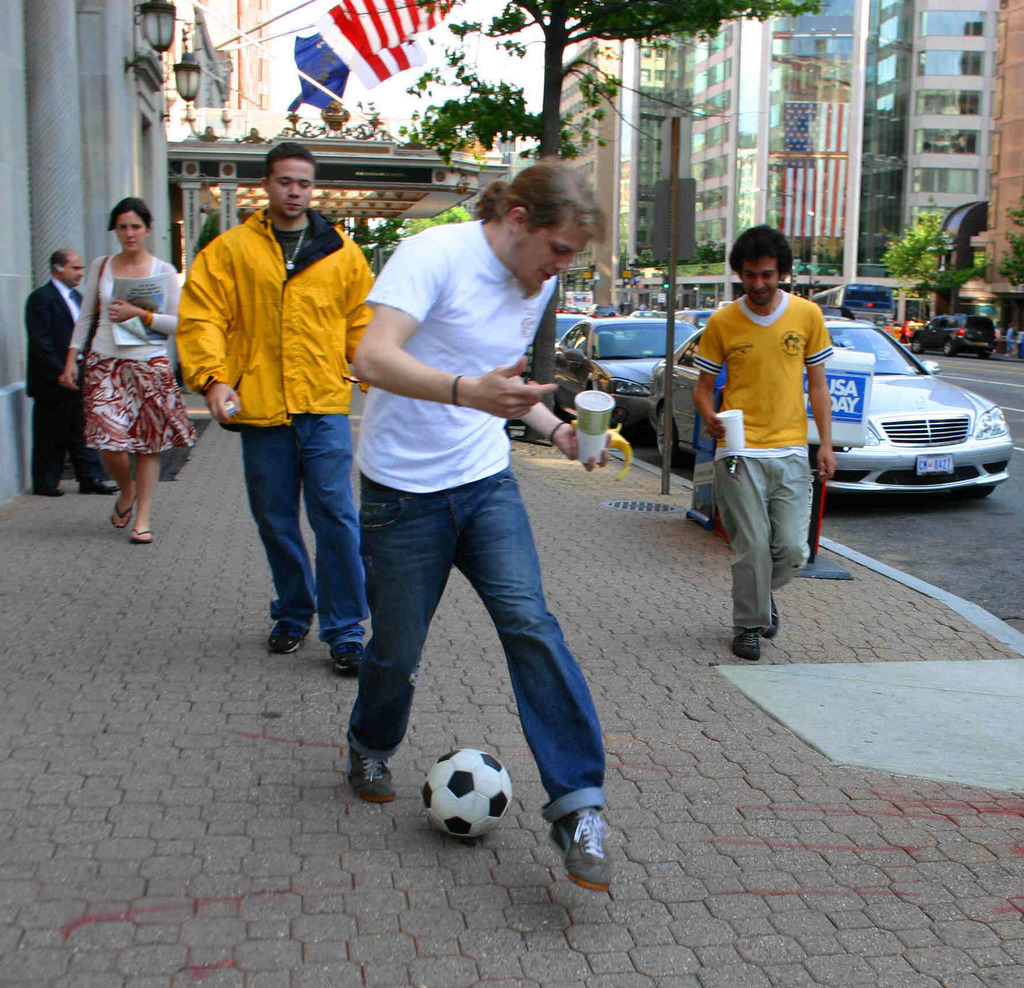Car: (650, 307, 1011, 494), (553, 313, 705, 442), (906, 313, 997, 358), (550, 311, 588, 350), (1002, 325, 1023, 357), (580, 303, 617, 313)
